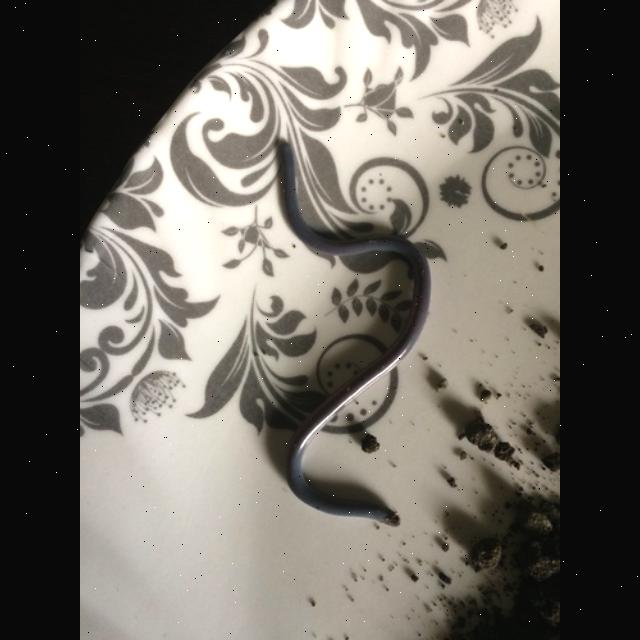snake: (266, 132, 436, 540)
